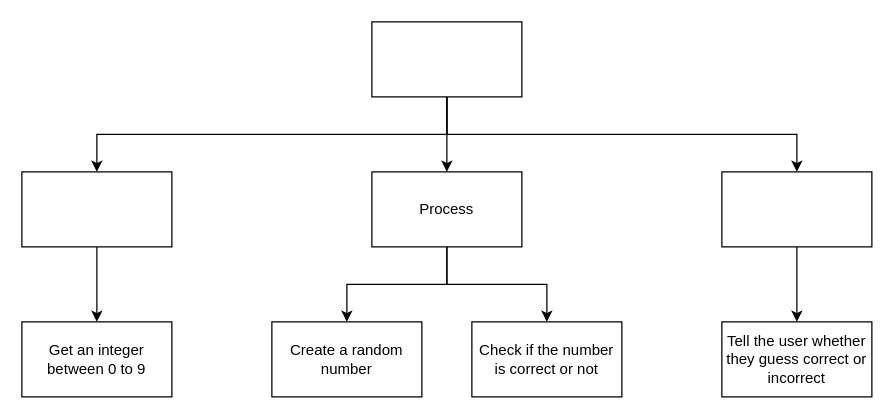
Image size: 894x419. Some labels were removed from this diagram. Each missing label, with the centre of its shape:
Guess the correct number: the point at 446,59
Input: the point at 96,209
Output: the point at 796,209
